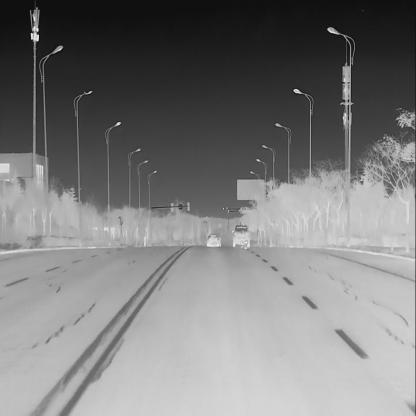car: (231, 223, 250, 249), (205, 232, 221, 248)
